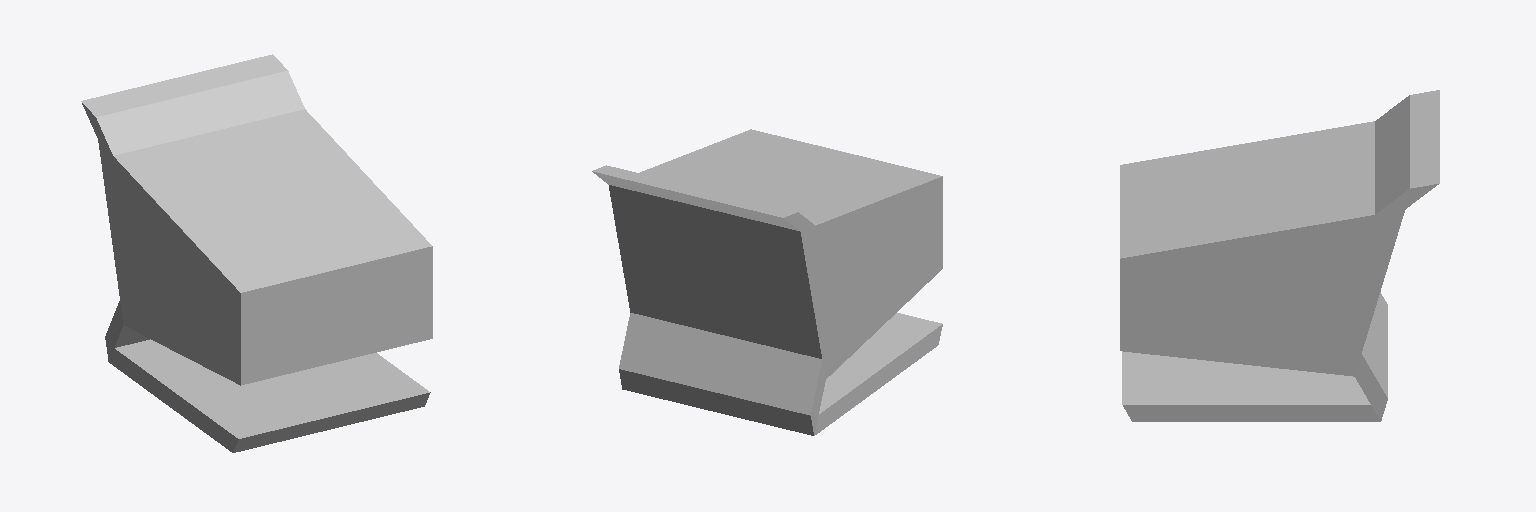
Rendered from ShoppingCart.obj.
3 views of the same model, side by side, from view 1: azimuth 30°, elevation 25°; view 2: azimuth 150°, elevation 25°; view 3: azimuth 270°, elevation 25° (orthographic).
Parts seen in each view (by area): view 1: Cube; view 2: Cube; view 3: Cube.
Boxes of the visible parts, x1=… form: Cube: x1=81, y1=54, x2=432, y2=452; Cube: x1=592, y1=129, x2=942, y2=435; Cube: x1=1120, y1=90, x2=1439, y2=421.
Size of the model in its own units: 3.5 by 4.13 by 5.